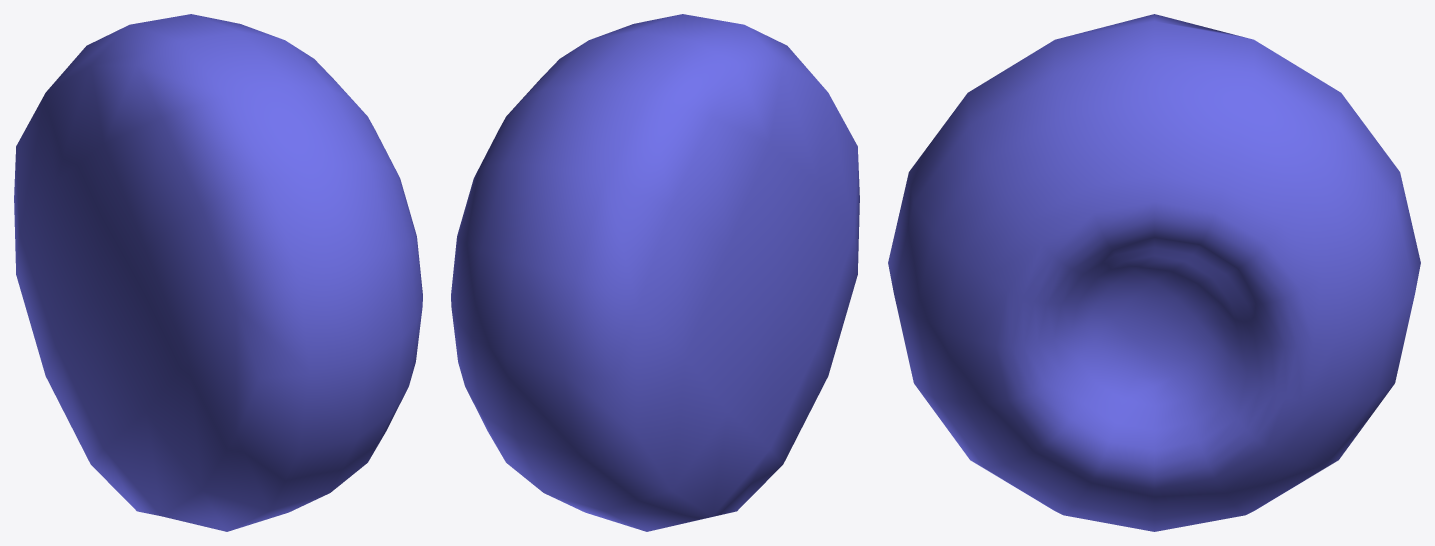
File: RayReceiver.fbx
The picture shows the model from 3 angles, left to right: view 1: azimuth 30°, elevation 25°; view 2: azimuth 150°, elevation 25°; view 3: azimuth 270°, elevation 25°; orthographic projection. The views are drawn at different scales.
Visible parts, largest first — view 1: RayReceiver; view 2: RayReceiver; view 3: RayReceiver.
Boxes of the visible parts, x1,y1,x2,y2 form: RayReceiver: (14,14,422,531); RayReceiver: (451,14,859,531); RayReceiver: (888,14,1420,531).
Bounding box in the file's own units: 32.06 × 57.53 × 57.53.
